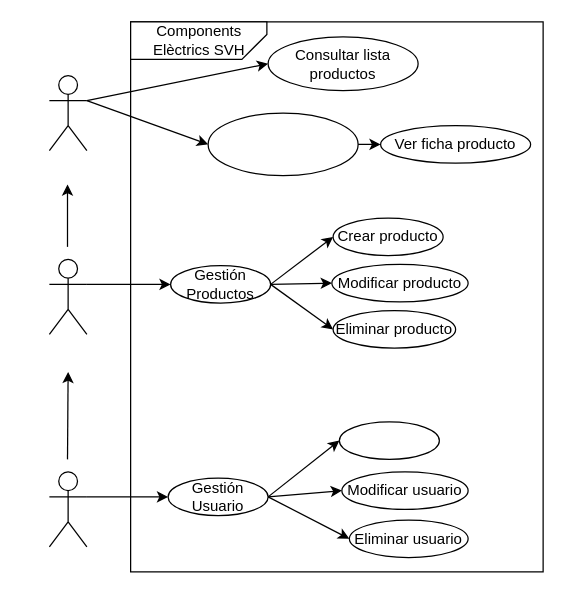
The diagram is 565 pixels wide and 595 high, and some of its shapes have lost their labels. The centre of each missing label's shape, as x and y in pixels:
"Administrador" goes at (67,509).
"Buscar producto por nombre" goes at (282,144).
"Crear usuario" goes at (388,440).
"Gestor" goes at (67,296).
"Usuario" goes at (67,112).
